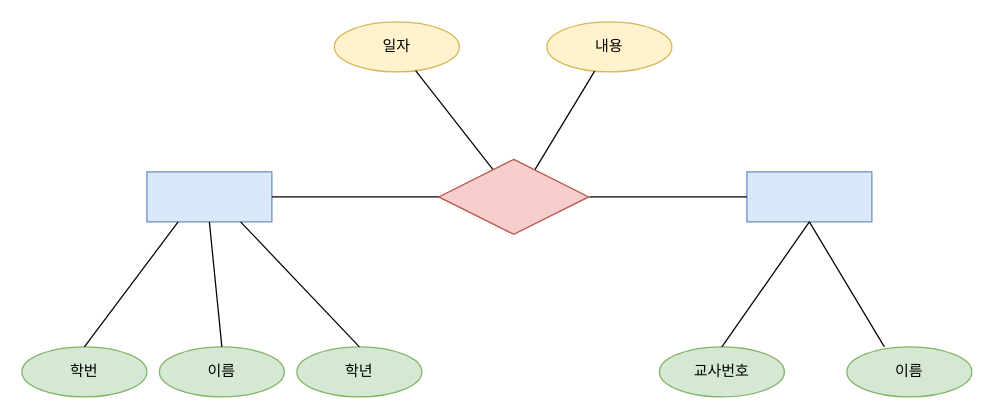
Image size: 994x419. Some labels were removed from this diagram. Each missing label, with the centre of its shape:
"교사" belongs at (809,196).
"상담" belongs at (513,196).
"학생" belongs at (209,196).
